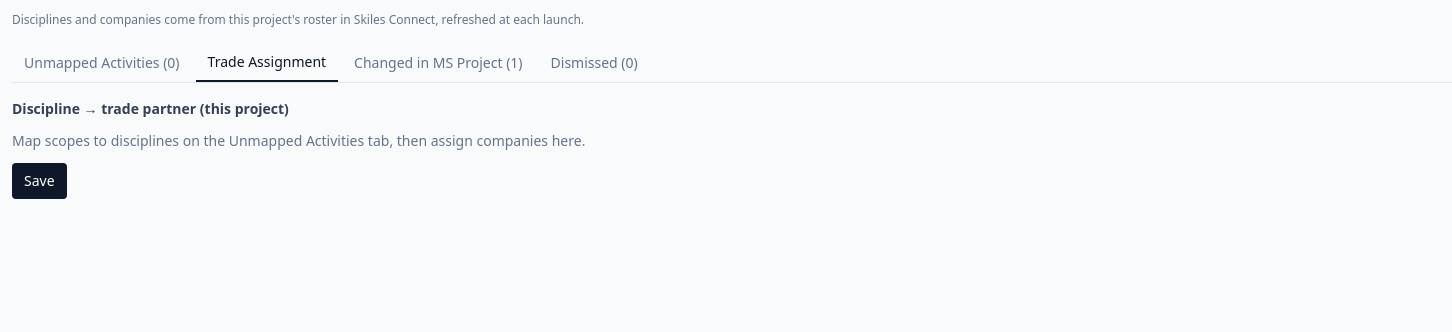
Test: TradesPanel › reports an off-roster refusal from the drift route
Click the button "Changed in MS Project (1)".
click(438, 63)  # box left=342, top=44, right=535, bottom=82
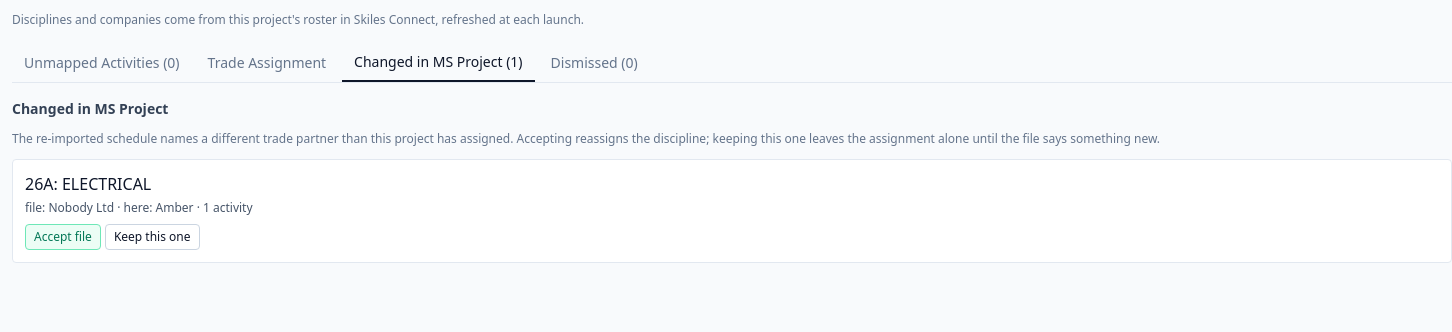
Click the button "Accept file".
click(63, 237)  # box left=25, top=224, right=101, bottom=250
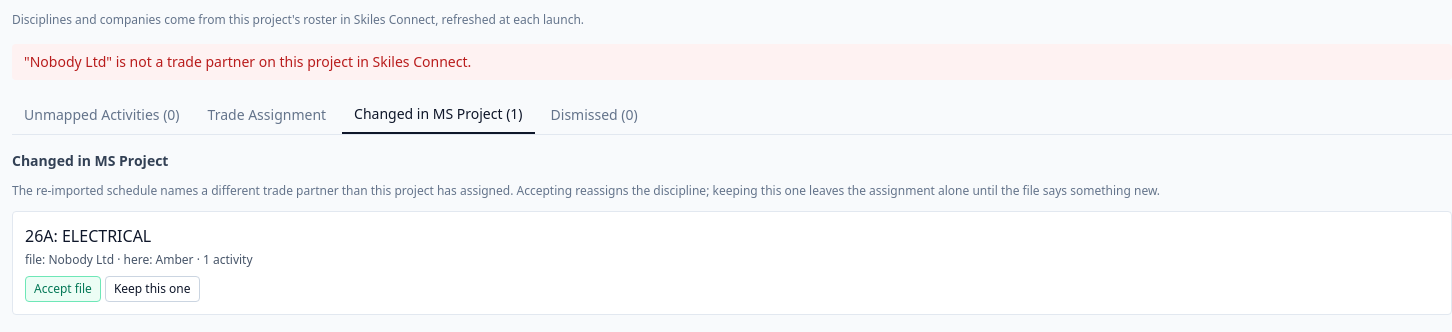
Result: the text "is not a trade partner on this project" is shown at left=24, top=52, right=471, bottom=71
